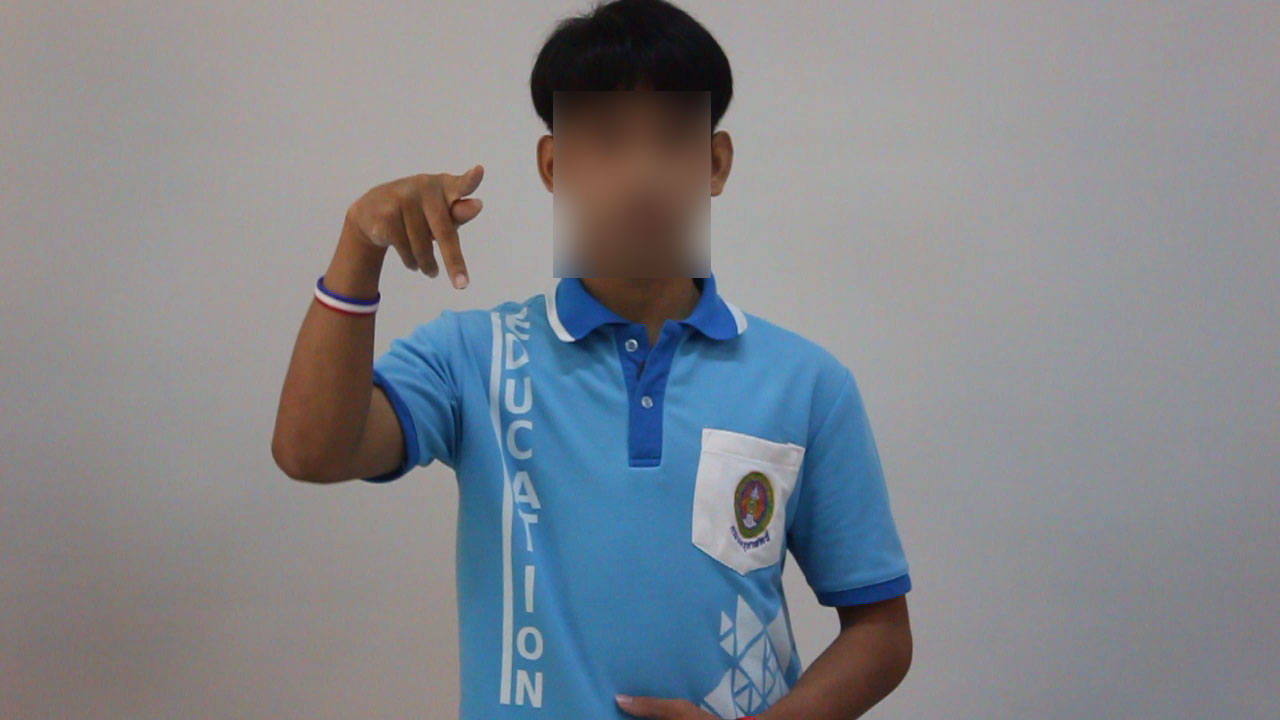por: (331, 140, 503, 300)
